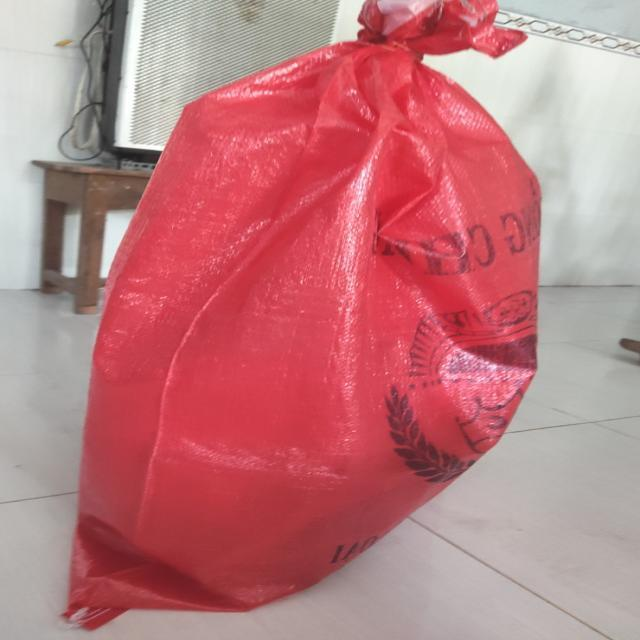gunny_bag: (64, 0, 541, 630)
